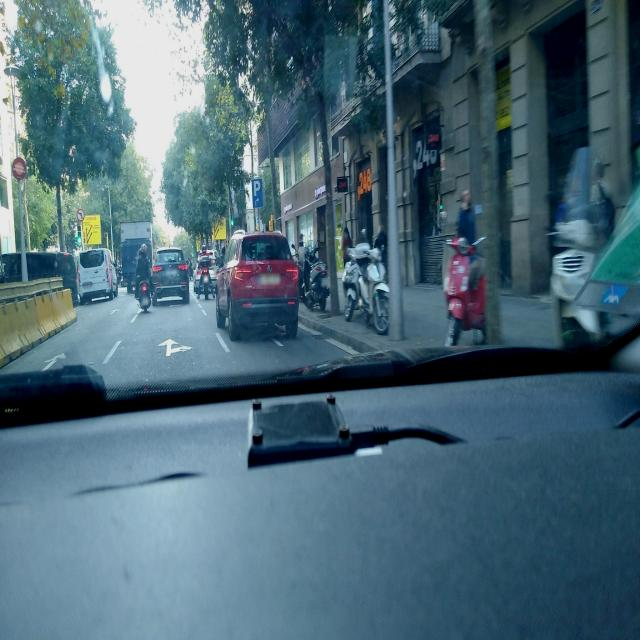bike: (546, 215, 606, 346), (440, 235, 492, 349), (342, 250, 391, 336), (343, 250, 391, 336), (304, 258, 332, 313), (137, 276, 152, 312), (199, 257, 211, 300)
car: (215, 229, 300, 342), (150, 246, 190, 307), (78, 247, 119, 305)
